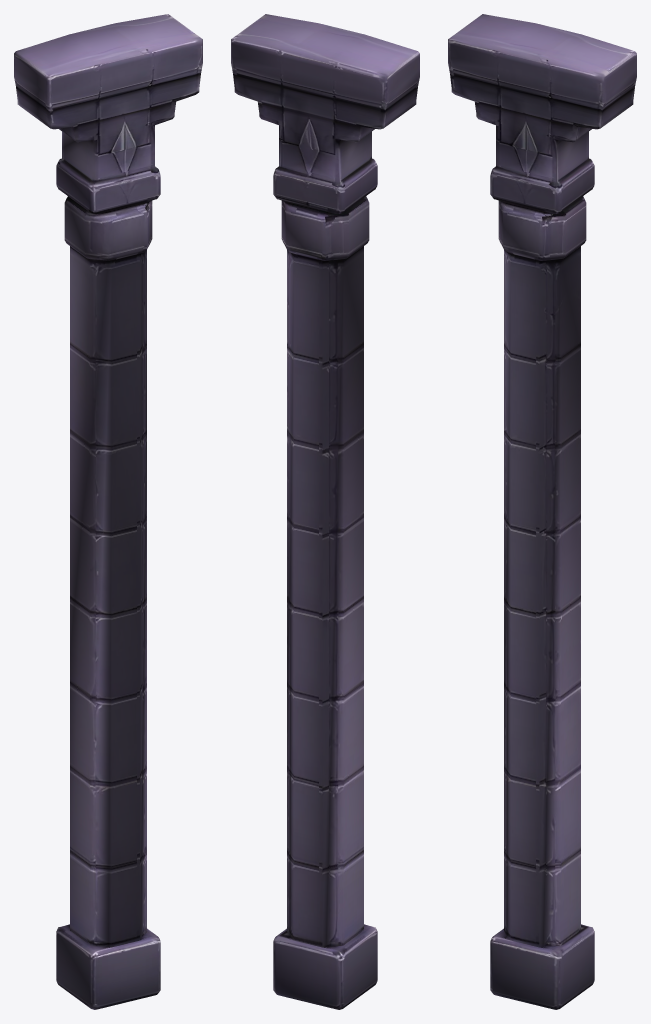
File: castle-column.glb
3 views of the same model, side by side, from view 1: azimuth 30°, elevation 25°; view 2: azimuth 150°, elevation 25°; view 3: azimuth 330°, elevation 25° (orthographic).
Parts seen in each view (by area): view 1: mesh_rep_0_ori_repair; view 2: mesh_rep_0_ori_repair; view 3: mesh_rep_0_ori_repair.
Part boxes in pixels (<box>): mesh_rep_0_ori_repair: <box>14,14,202,1009</box>; mesh_rep_0_ori_repair: <box>231,14,419,1009</box>; mesh_rep_0_ori_repair: <box>448,14,636,1009</box>.
Size of the model in its own units: 0.2044 by 1.19 by 0.0883.
Materials: 1 (1 with a texture image).
